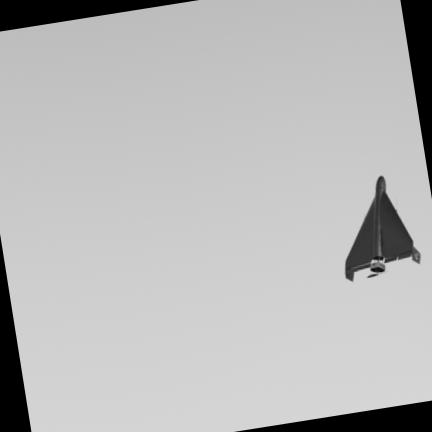Shahed: (346, 176, 420, 280)
